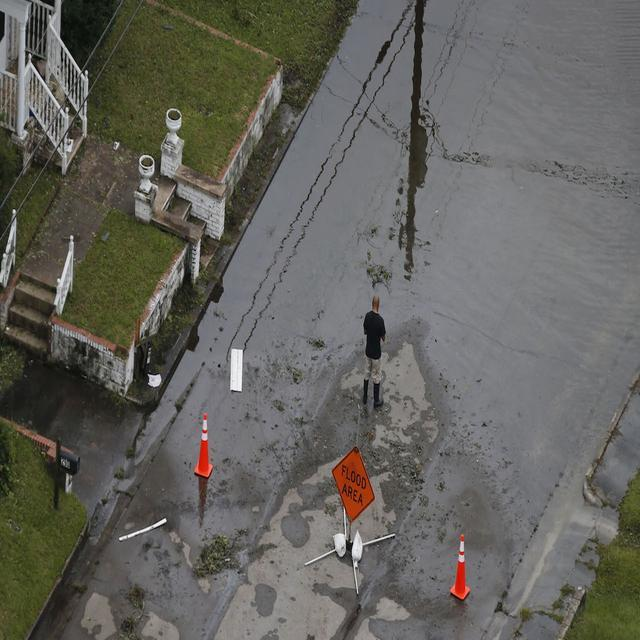Person-RiskLevel1: (352, 283, 405, 420)
